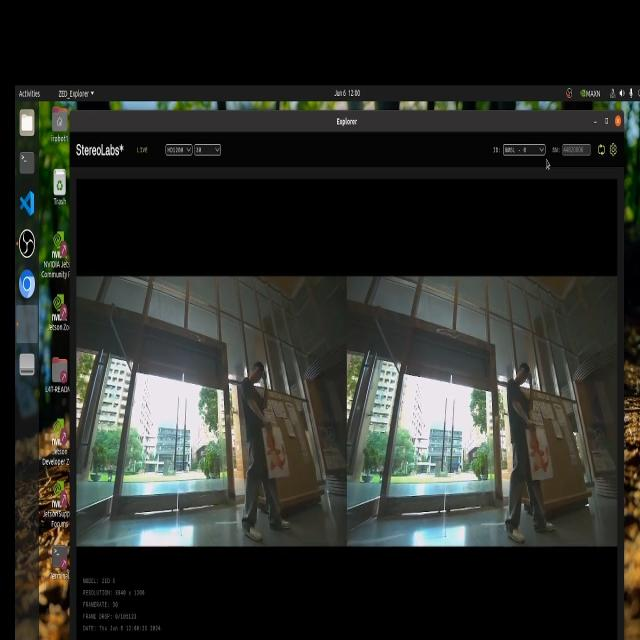red: (264, 426, 302, 484), (530, 430, 550, 479)
